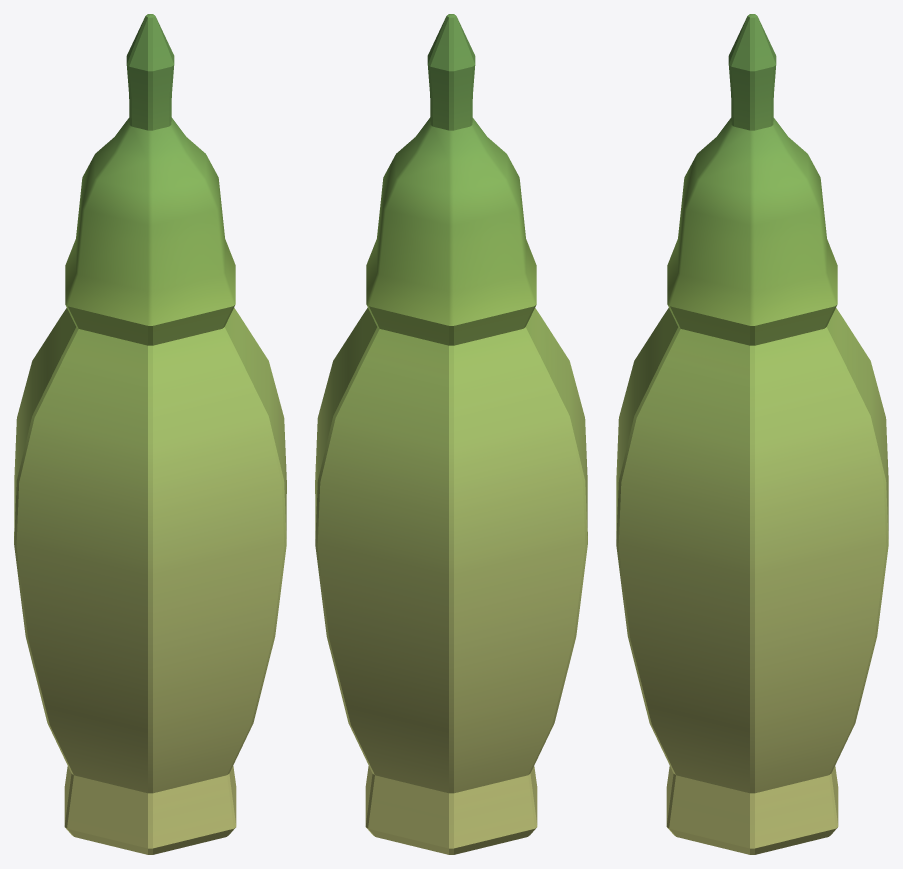
File: Vase_Profiled_Natural.fbx
3 renders of one model, left to right at view 1: azimuth 30°, elevation 25°; view 2: azimuth 150°, elevation 25°; view 3: azimuth 270°, elevation 25°, orthographic.
Parts seen in each view (by area): view 1: Vase_Profiled_Natural; view 2: Vase_Profiled_Natural; view 3: Vase_Profiled_Natural.
Boxes of the visible parts, x1,y1,x2,y2 form: Vase_Profiled_Natural: (14,14,286,854); Vase_Profiled_Natural: (315,14,587,854); Vase_Profiled_Natural: (616,14,888,854).
Size of the model in its own units: 21.48 by 61.28 by 18.75.
